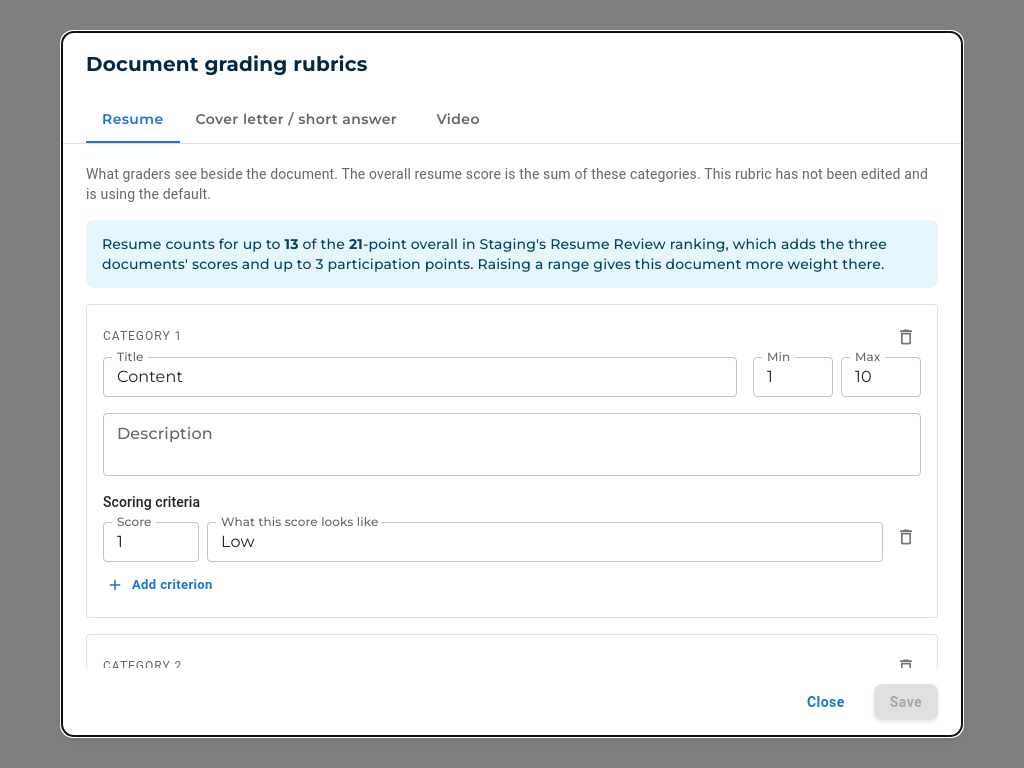
Test case: DocumentRubricEditorDialog › shows how much of the Staging total the document is worth, as the range changes
Expected: the field showing "Content" is shown, [103,357,737,397]
Expected: the text "counts for up to" shows "Resume counts for up to 13 of the 21-point overall", [102,226,922,282]
Replace the text in the field labelled "Max" with "20" at [881, 377], box [841,357,921,397]
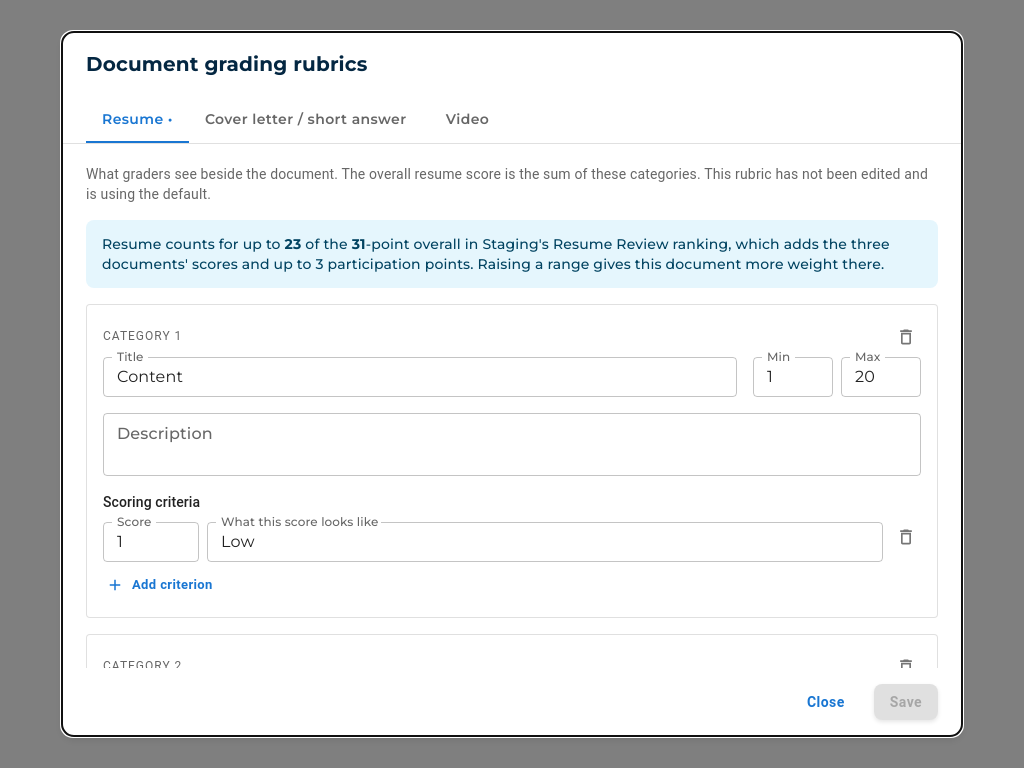
Now the text "counts for up to" shows "up to 23 of the 31-point overall", box [102,226,922,282]
